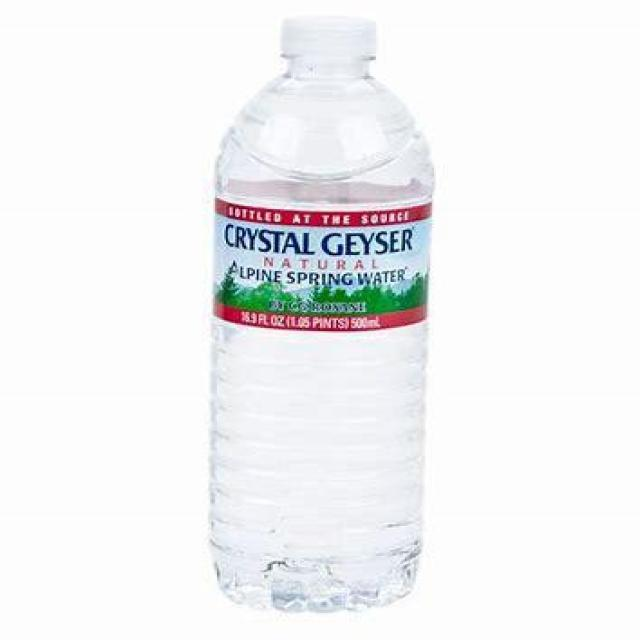bottle: (203, 12, 441, 614)
